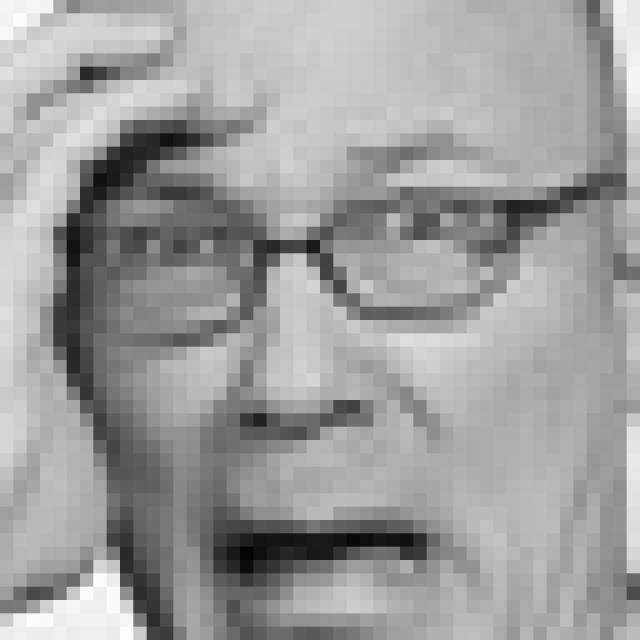fear: (86, 130, 511, 640)
